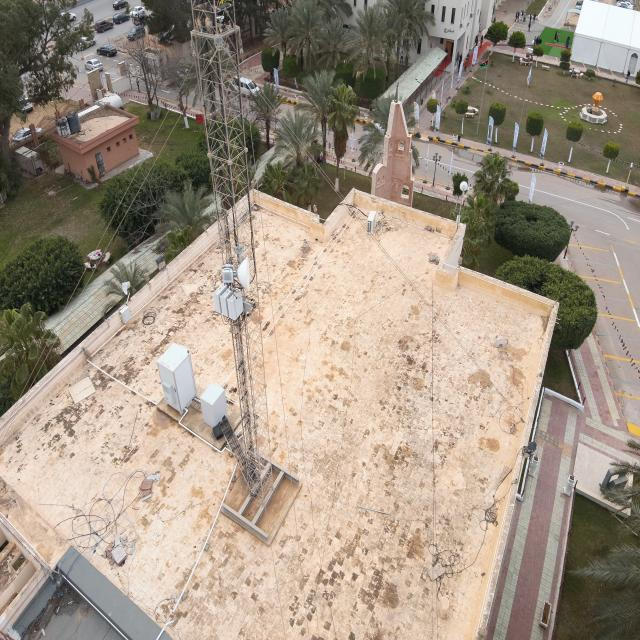microware-dish: (221, 255, 255, 294)
power-box: (209, 283, 245, 323)
